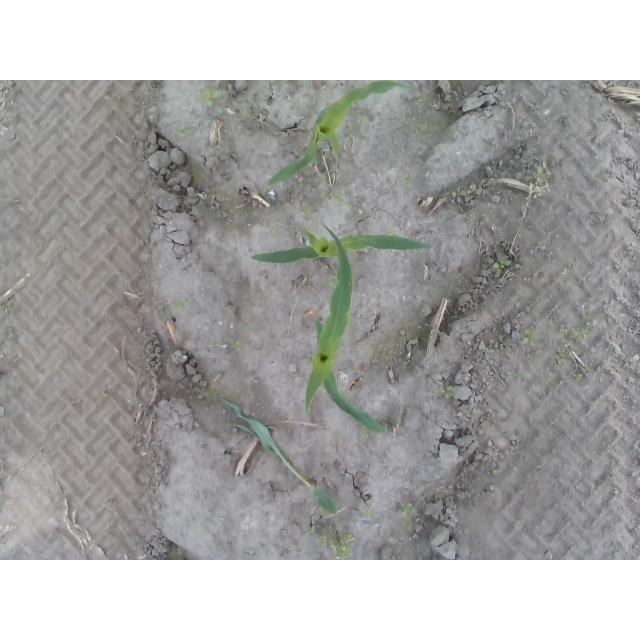Maize: (303, 223, 385, 431), (268, 81, 421, 188), (222, 397, 339, 515), (251, 229, 435, 267)
Weeds: (190, 85, 226, 113), (321, 533, 353, 560), (451, 182, 482, 199), (558, 333, 572, 367), (535, 162, 552, 187), (521, 328, 542, 347), (175, 299, 192, 314), (492, 259, 512, 270), (440, 384, 454, 398), (357, 113, 369, 129), (177, 126, 192, 137), (401, 503, 412, 518), (228, 338, 240, 350), (402, 174, 416, 183), (447, 118, 458, 129), (335, 192, 345, 202), (573, 372, 583, 382), (574, 331, 588, 338), (511, 371, 520, 381), (581, 320, 592, 327), (279, 81, 289, 88), (613, 486, 620, 495)
